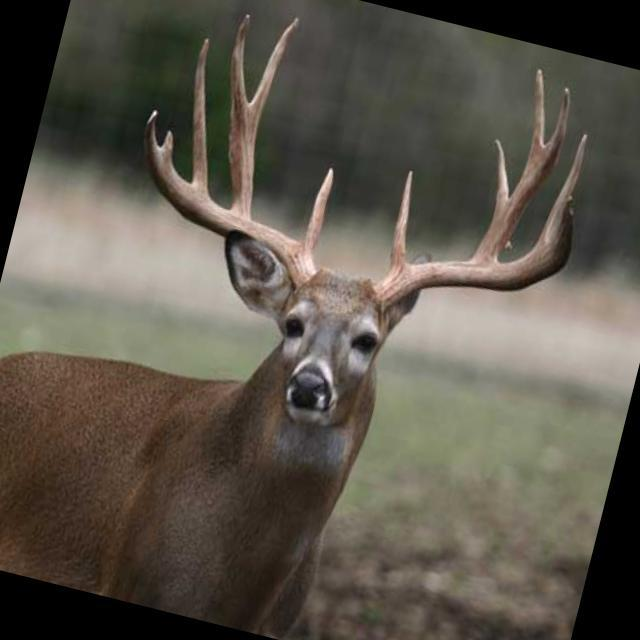E1: (249, 13, 299, 131)
E2: (161, 128, 175, 166)
E3: (493, 139, 509, 217)
E4: (523, 69, 545, 175)
L-F: (373, 193, 575, 313)
L-G1: (385, 168, 414, 274)
L-G2: (469, 86, 571, 265)
R-F: (143, 109, 316, 292)
R-G1: (301, 166, 334, 256)
R-G2: (227, 10, 253, 218)
R-G3: (190, 36, 211, 200)
